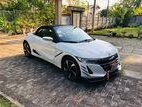car: (22, 25, 119, 81)
